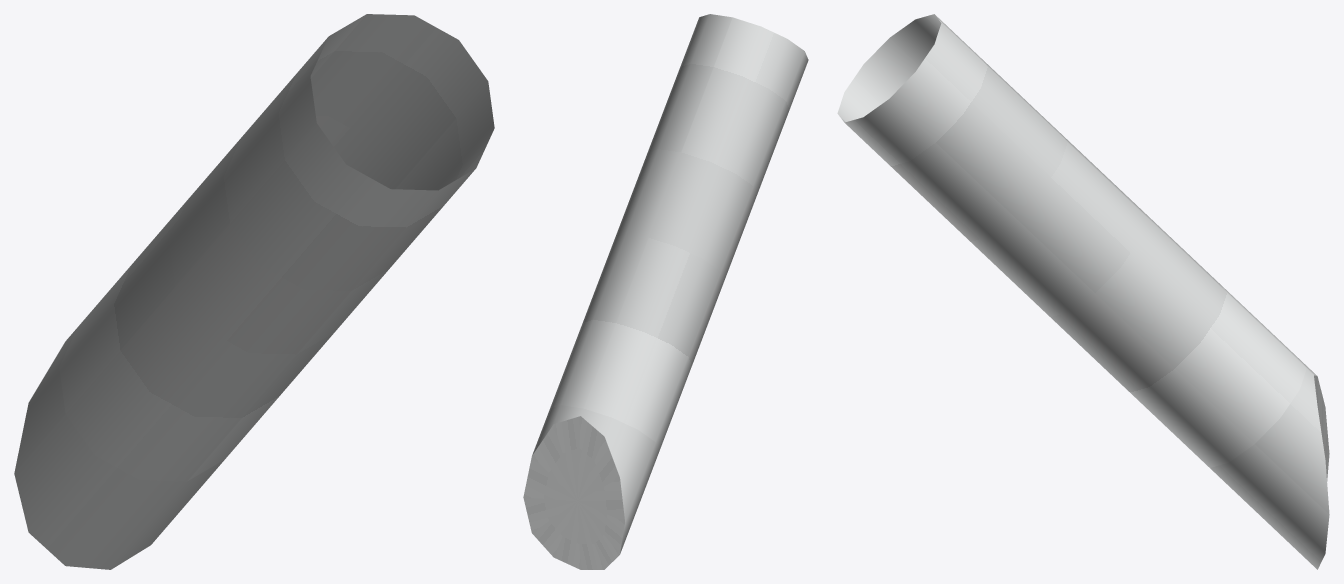
The model's file is luminairearm_truss8ftdouble_c8_pedestal.obj.
3 views of the same model, side by side, from view 1: azimuth 30°, elevation 25°; view 2: azimuth 150°, elevation 25°; view 3: azimuth 270°, elevation 25° (orthographic). The views are drawn at different scales.
Parts seen in each view (by area): view 1: luminairearm_truss8ftdouble_c8_pedestal; view 2: luminairearm_truss8ftdouble_c8_pedestal; view 3: luminairearm_truss8ftdouble_c8_pedestal.
Part boxes in pixels (box(x1,y1,x2,y2)): luminairearm_truss8ftdouble_c8_pedestal: box(14, 14, 494, 569); luminairearm_truss8ftdouble_c8_pedestal: box(523, 14, 808, 569); luminairearm_truss8ftdouble_c8_pedestal: box(837, 14, 1329, 569).
Size of the model in its own units: 0.1562 by 0.6473 by 0.5339.
